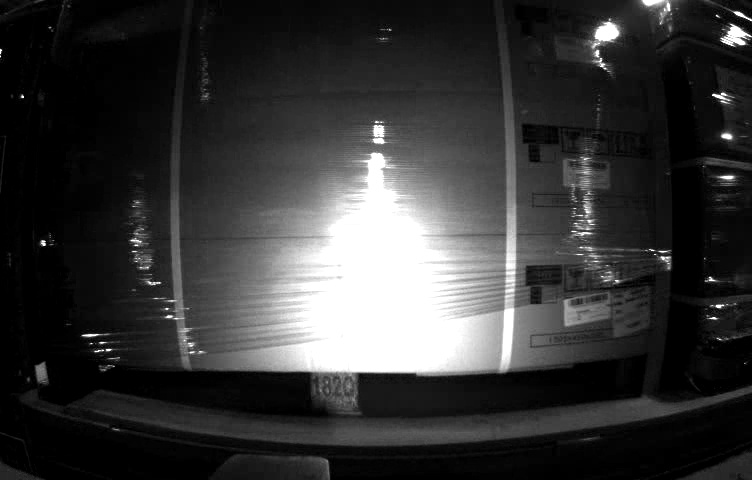True Barcode: (612, 288, 652, 337)
